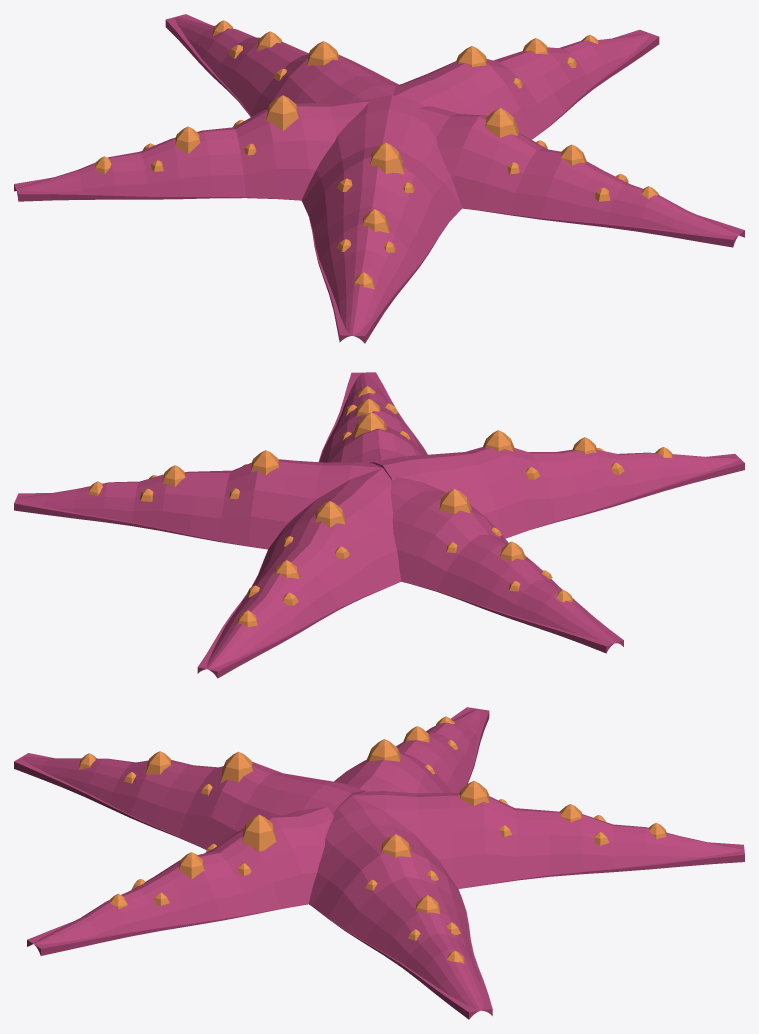
The model's file is Starfish.fbx.
The picture shows the model from 3 angles, top to bottom: view 1: azimuth 30°, elevation 25°; view 2: azimuth 150°, elevation 25°; view 3: azimuth 270°, elevation 25°; orthographic projection. The views are drawn at different scales.
Parts seen in each view (by area): view 1: Starfish_Arm_02, Starfish_Arm_01, Starfish_Arm_03, Starfish_Arm_04, Starfish_Arm_00, Starfish_Knob_1_0, Starfish_Knob_2_0, Starfish_Knob_3_0, Starfish_Knob_0_0; view 2: Starfish_Arm_00, Starfish_Arm_02, Starfish_Arm_04, Starfish_Arm_01, Starfish_Arm_03, Starfish_Knob_1_0, Starfish_Knob_0_0; view 3: Starfish_Arm_04, Starfish_Arm_00, Starfish_Arm_03, Starfish_Arm_02, Starfish_Arm_01, Starfish_Knob_3_0, Starfish_Knob_2_0, Starfish_Knob_1_0, Starfish_Knob_0_0, Starfish_Knob_4_0.
Part boxes in pixels (x1,y1,x2,y2): Starfish_Arm_02: (301,95,462,343); Starfish_Arm_01: (14,99,369,201); Starfish_Arm_03: (419,106,744,247); Starfish_Arm_04: (393,29,659,139); Starfish_Arm_00: (165,14,398,116); Starfish_Knob_1_0: (266,95,298,131); Starfish_Knob_2_0: (370,142,404,174); Starfish_Knob_3_0: (485,108,519,137); Starfish_Knob_0_0: (307,41,338,66); Starfish_Arm_00: (197,468,401,678); Starfish_Arm_02: (370,446,744,538); Starfish_Arm_04: (14,459,382,549); Starfish_Arm_01: (390,477,623,653); Starfish_Arm_03: (318,372,427,462); Starfish_Knob_1_0: (439,489,471,514); Starfish_Knob_0_0: (315,501,345,527); Starfish_Arm_04: (308,795,492,1019); Starfish_Arm_00: (352,791,744,888); Starfish_Arm_03: (27,807,333,955); Starfish_Arm_02: (14,753,365,850); Starfish_Arm_01: (334,707,489,793); Starfish_Knob_3_0: (242,814,276,851); Starfish_Knob_2_0: (220,751,252,782); Starfish_Knob_1_0: (366,739,400,761); Starfish_Knob_0_0: (459,781,489,805); Starfish_Knob_4_0: (381,834,410,858).
Bounding box in the file's own units: 533 × 66.66 × 540.
